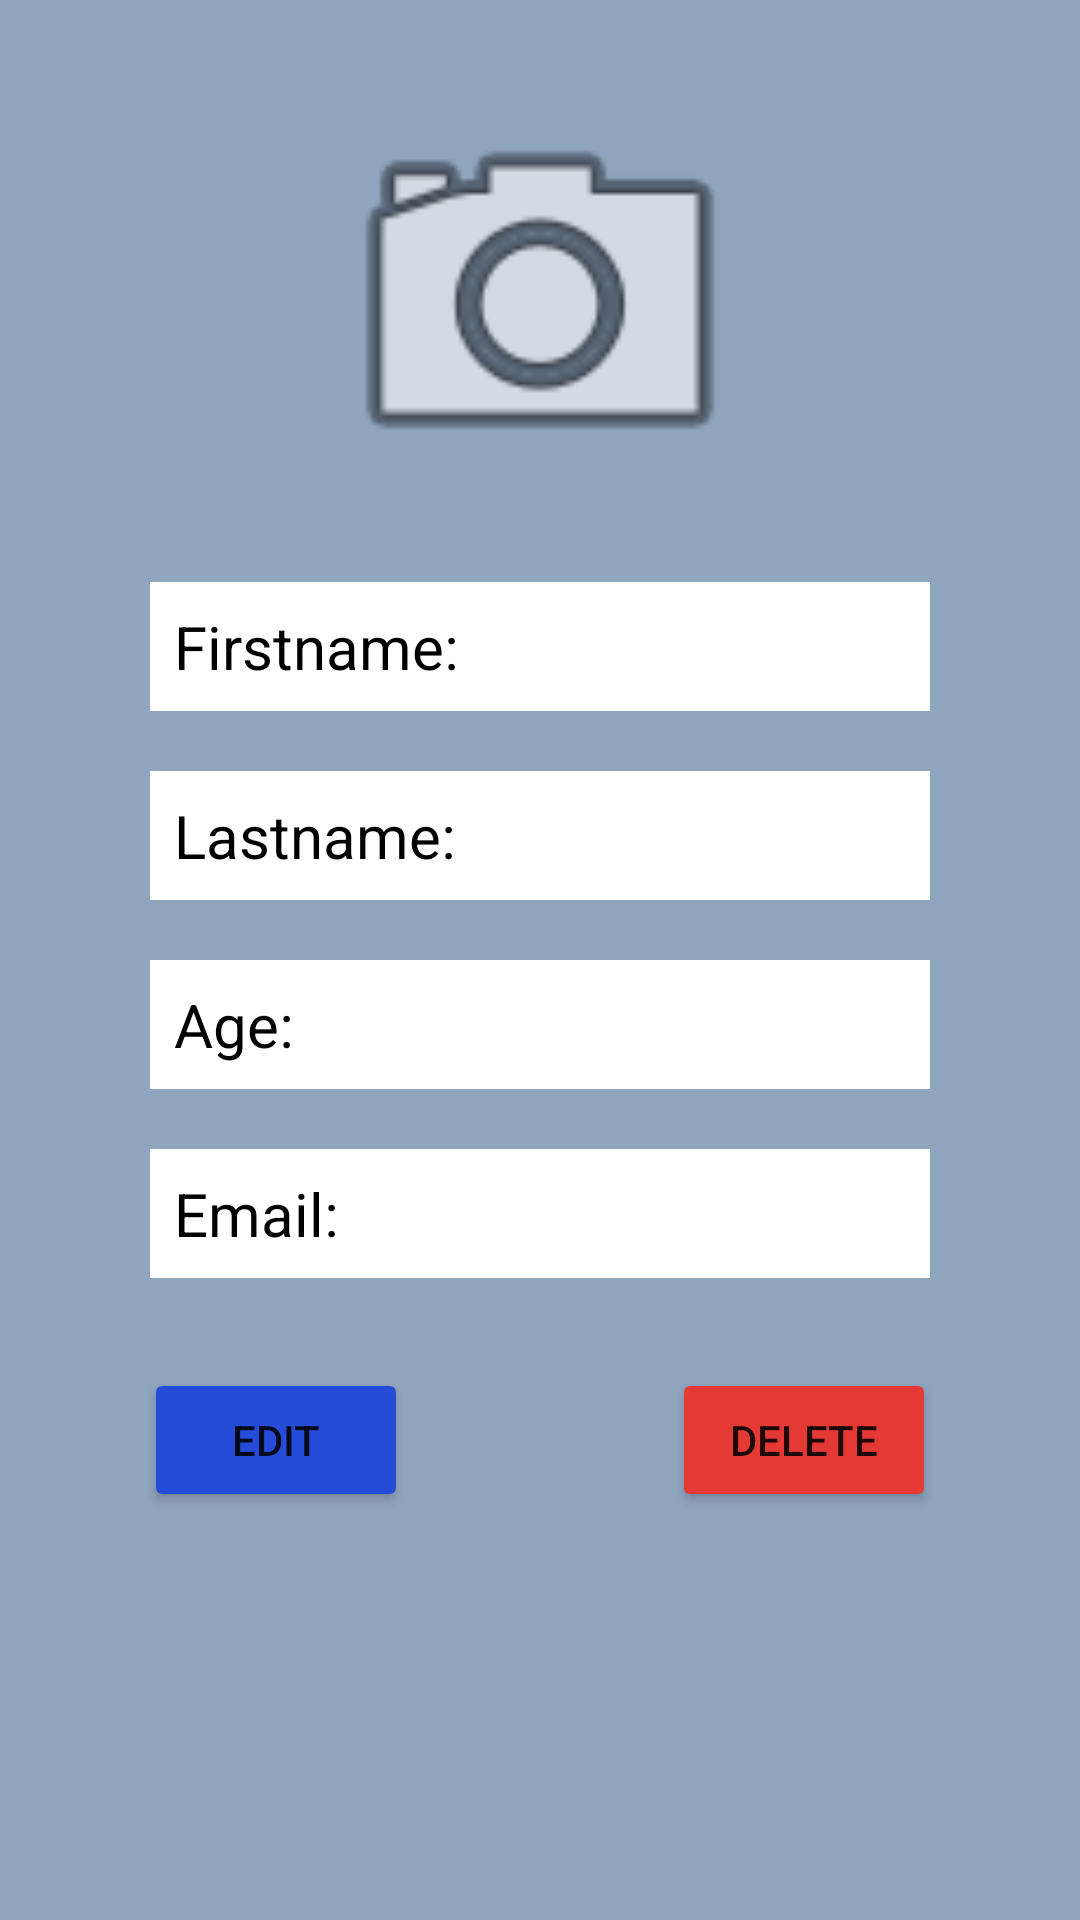

Icon bounding boxes for this 1080*1920 phone screenshot, format (x1, y1, x2, y2):
camera: (366, 152, 714, 428)
